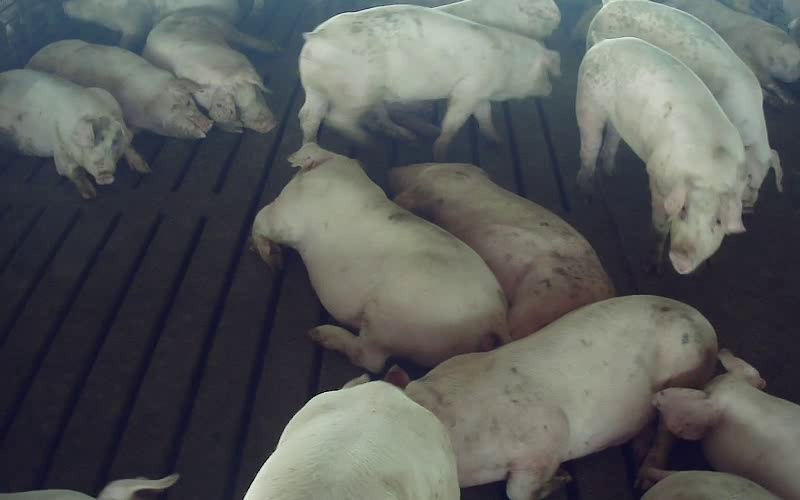pig: (252, 143, 508, 372), (299, 5, 559, 158), (587, 0, 781, 205), (576, 38, 744, 273), (390, 163, 613, 338), (245, 381, 458, 499), (656, 351, 799, 499), (27, 40, 212, 138), (143, 7, 275, 132)
